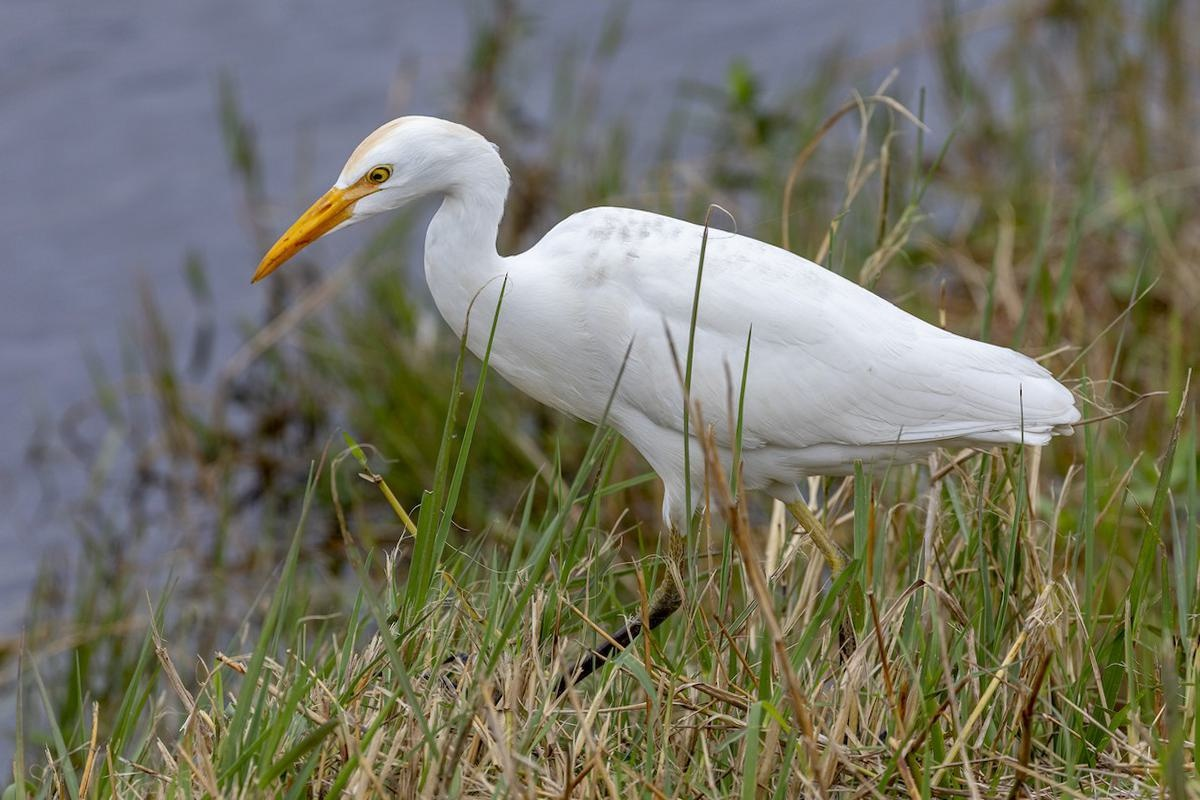egret: (248, 93, 1084, 571)
